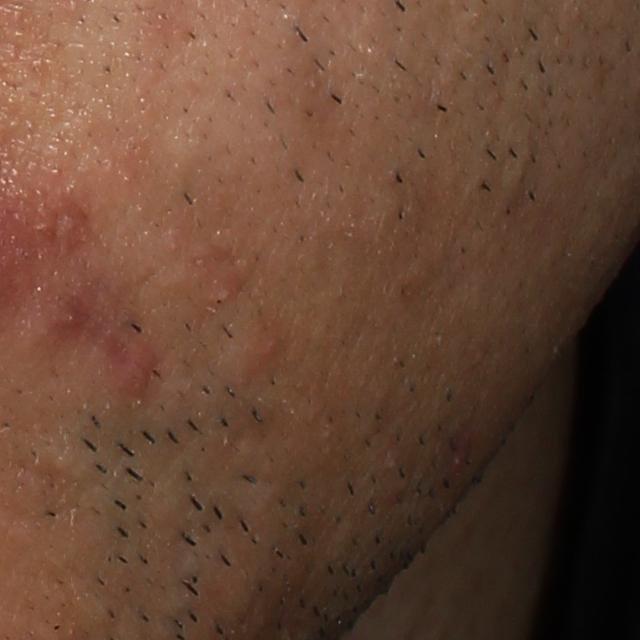papule: (8, 274, 94, 363), (103, 337, 164, 402), (30, 196, 90, 262), (222, 319, 282, 384), (200, 271, 234, 306)
